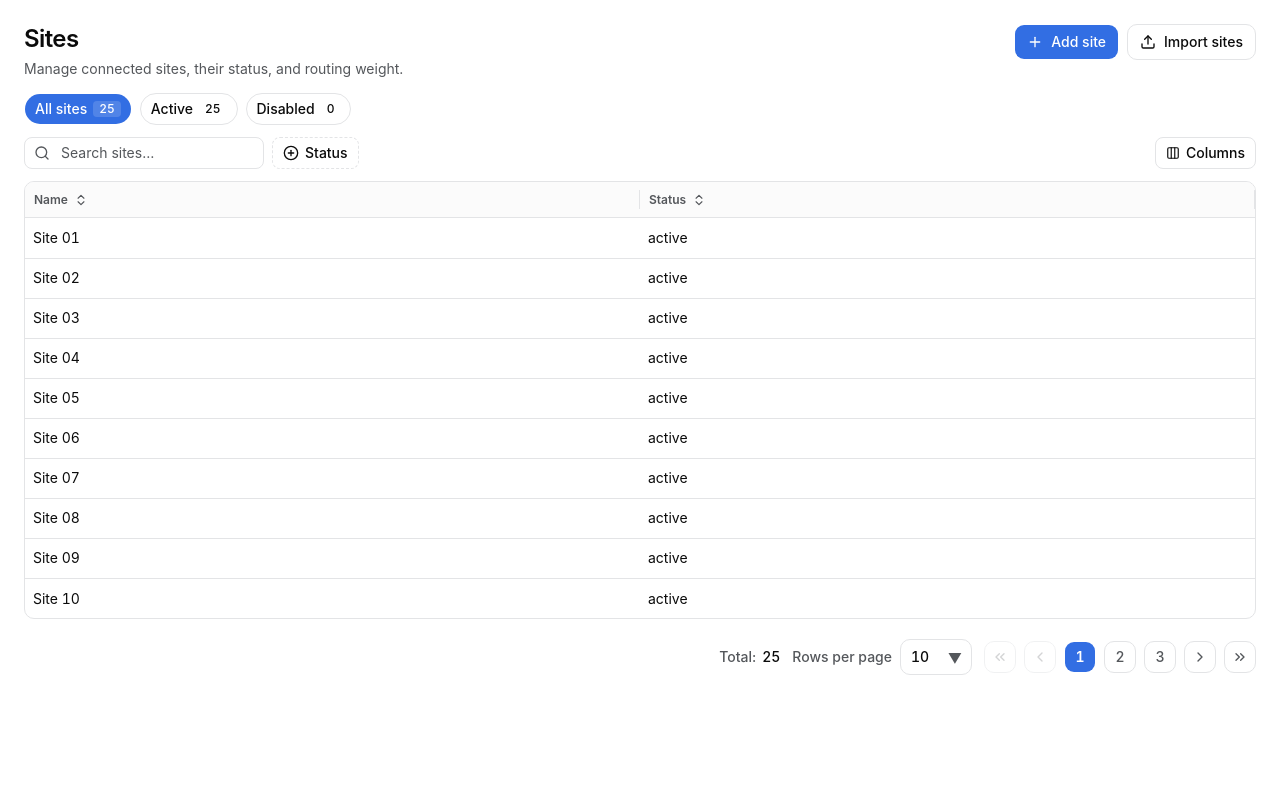
Test: SitesPage URL-controlled pagination › keeps page 2 selected and renders rows 11-20
Check: the text "Site 01" is shown, box left=25, top=218, right=640, bottom=258
Check: the text "Site 10" is shown, box left=25, top=578, right=640, bottom=618
Click the button named "Go to page 2" at (1120, 657), box left=1104, top=641, right=1136, bottom=673
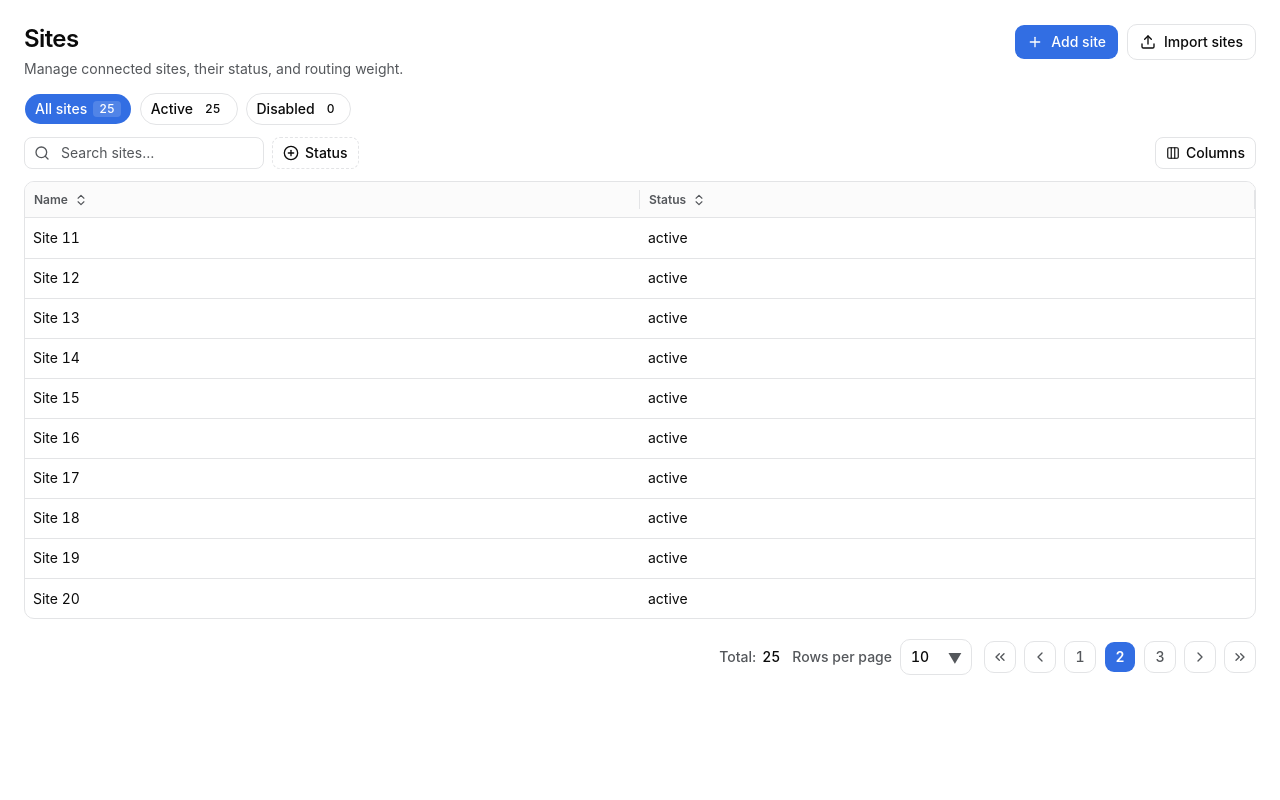
Check: the text "Site 11" is shown, box left=25, top=218, right=640, bottom=258
Check: the text "Site 01" is gone
Check: the text "Site 10" is gone
